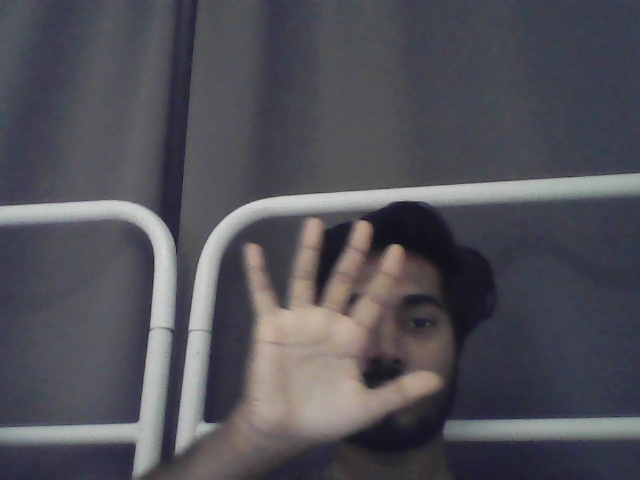hello: (239, 217, 448, 446)
